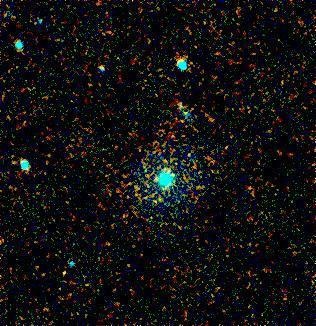star: (93, 228, 123, 258)
